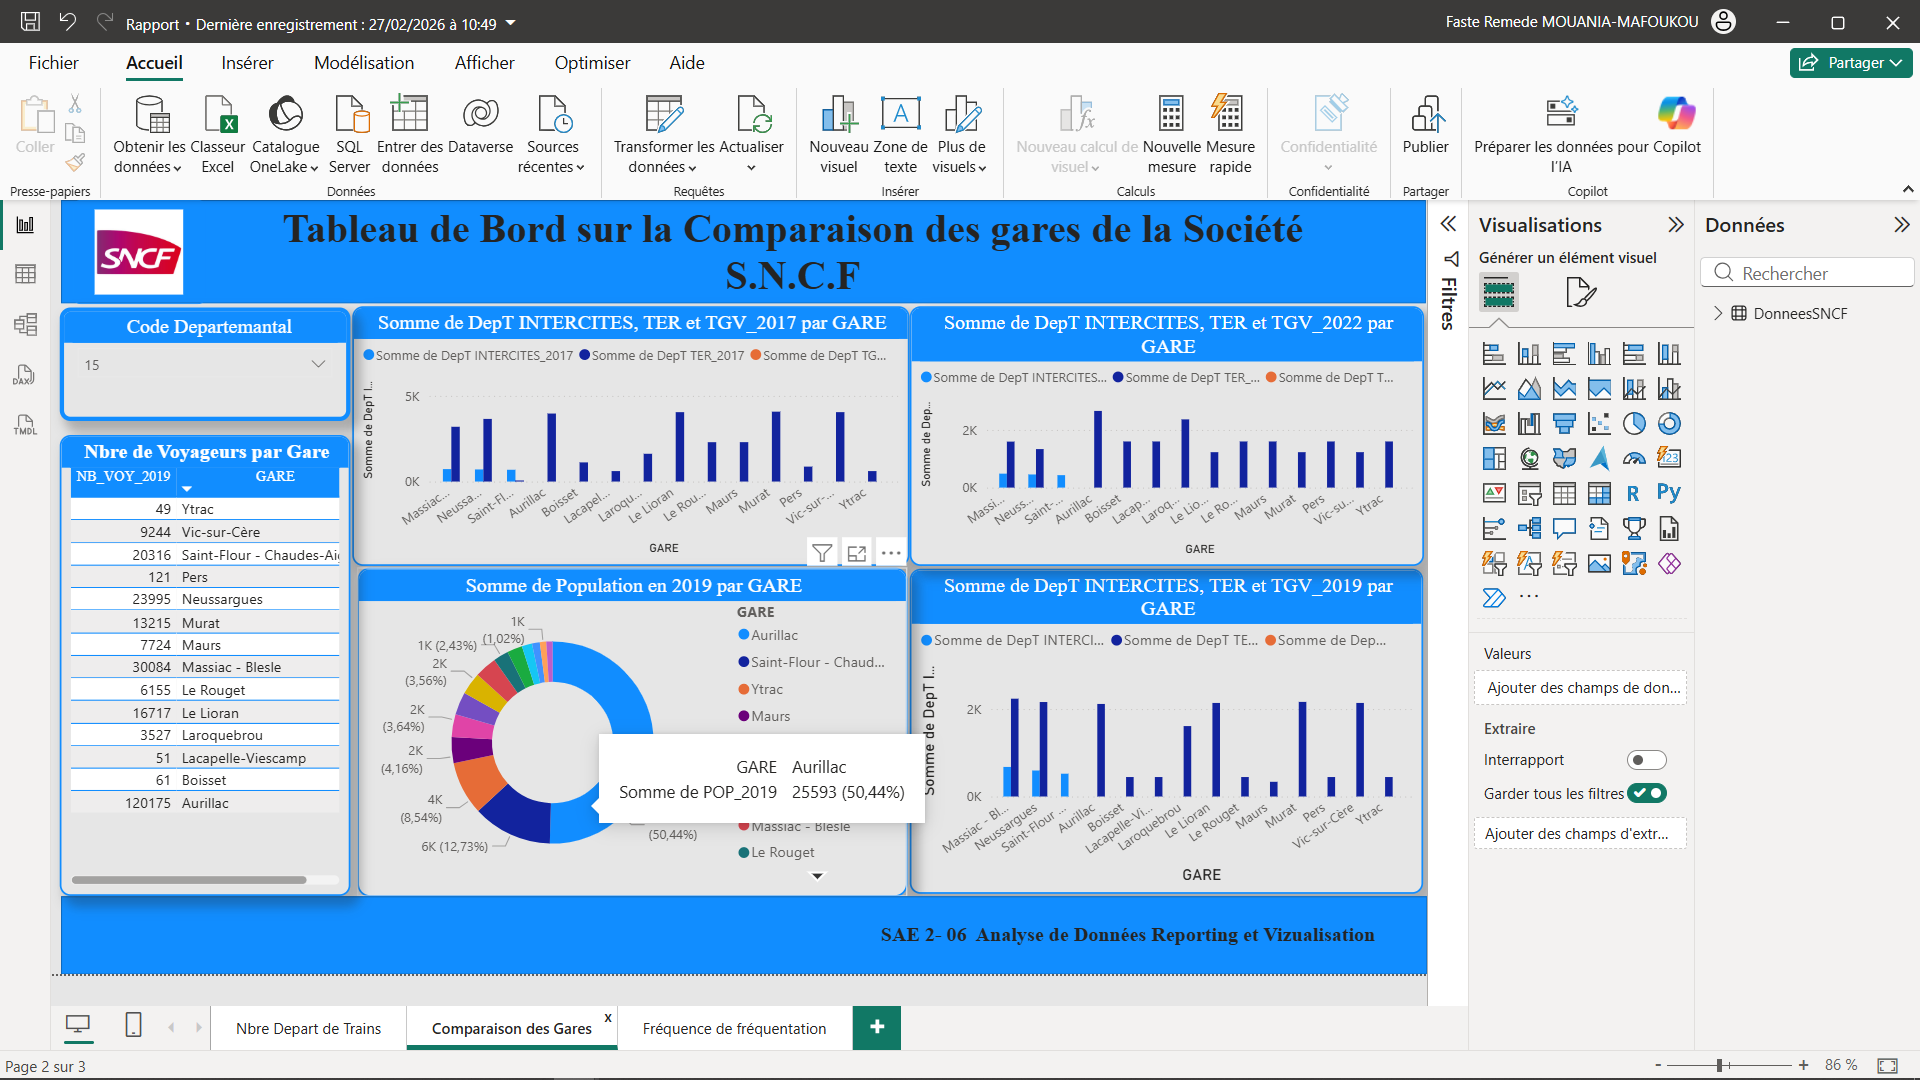

Layout of this report page (visuals, bound fields, positions):
{"tool":"powerbi","page":{"name":"Comparaison des Gares","canvas":[1280,720],"ordinal":1},"visuals":[{"type":"shape","box":[9.4,0,1269.9,96.4],"z":0},{"type":"image","box":[19.4,0,124.7,97.2],"z":1000},{"type":"clusteredColumnChart","title":"Somme de DepT INTERCITES, TER  et  TGV_2017 par GARE","fields":{"Category":["DonneesSNCF.GARE"],"Y":["Sum(DonneesSNCF.DepT INTERCITES_2017)","Sum(DonneesSNCF.DepT TER_2017)","Sum(DonneesSNCF.DepT TGV_2017)"]},"box":[280.1,98.8,518.2,241.3],"z":2000},{"type":"slicer","title":"Code Departemantal","fields":{"Values":["DonneesSNCF.CODE_DEP"]},"box":[8.1,100.4,270.4,105.2],"z":3000},{"type":"clusteredColumnChart","title":"Somme de DepT INTERCITES, TER  et  TGV_2019 par GARE","fields":{"Category":["DonneesSNCF.GARE"],"Y":["Sum(DonneesSNCF.DepT INTERCITES_2019)","Sum(DonneesSNCF.DepT TER_2019)","Sum(DonneesSNCF.DepT TGV_2019)"]},"box":[798.3,343.3,477.7,302.8],"z":4000},{"type":"clusteredColumnChart","title":"Somme de DepT INTERCITES, TER  et  TGV_2022 par GARE","fields":{"Category":["DonneesSNCF.GARE"],"Y":["Sum(DonneesSNCF.DepT INTERCITES_2022)","Sum(DonneesSNCF.DepT TER_2022)","Sum(DonneesSNCF.DepT TGV_2022)"]},"box":[799.4,98.3,478.1,241.9],"z":5000},{"type":"textbox","box":[147.4,0,1084.7,96.4],"z":6000},{"type":"donutChart","title":"Somme de Population en 2019 par GARE","fields":{"Y":["Sum(DonneesSNCF.POP_2019)"],"Category":["DonneesSNCF.GARE"]},"box":[285,341.7,511.7,306],"z":7000},{"type":"shape","box":[9.7,647.7,1271.1,72.9],"z":8000},{"type":"tableEx","title":"Nbre de Voyageurs par Gare","fields":{"Values":["DonneesSNCF. NB_VOY_2019 ","DonneesSNCF.GARE"]},"box":[8.1,218.6,270.4,429.1],"z":9000},{"type":"textbox","box":[749.7,667.1,508.4,34],"z":10000}]}

Visuals, with their boxes on the page's 1280x720 design canvas (x1, y1, x2, y2). These are canvas units, not pixel positions in the 1920x1080 screenshot, which may show the page scaled, cropped or inside an application window:
shape: [9,0,1279,96]
image: [19,0,144,97]
"Somme de DepT INTERCITES, TER  et  TGV_2017 par GARE" clusteredColumnChart: [280,99,798,340]
"Code Departemantal" slicer: [8,100,278,206]
"Somme de DepT INTERCITES, TER  et  TGV_2019 par GARE" clusteredColumnChart: [798,343,1276,646]
"Somme de DepT INTERCITES, TER  et  TGV_2022 par GARE" clusteredColumnChart: [799,98,1278,340]
textbox: [147,0,1232,96]
"Somme de Population en 2019 par GARE" donutChart: [285,342,797,648]
shape: [10,648,1281,721]
"Nbre de Voyageurs par Gare" tableEx: [8,219,278,648]
textbox: [750,667,1258,701]
